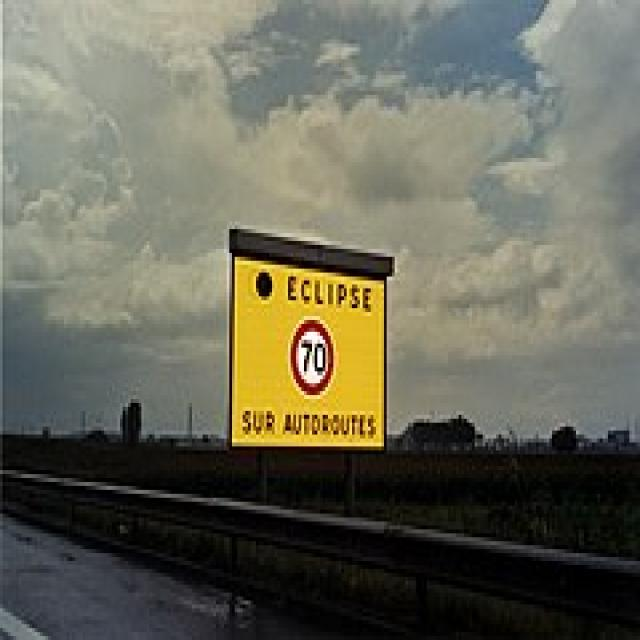Speed Limit -70-: (286, 316, 340, 399)
